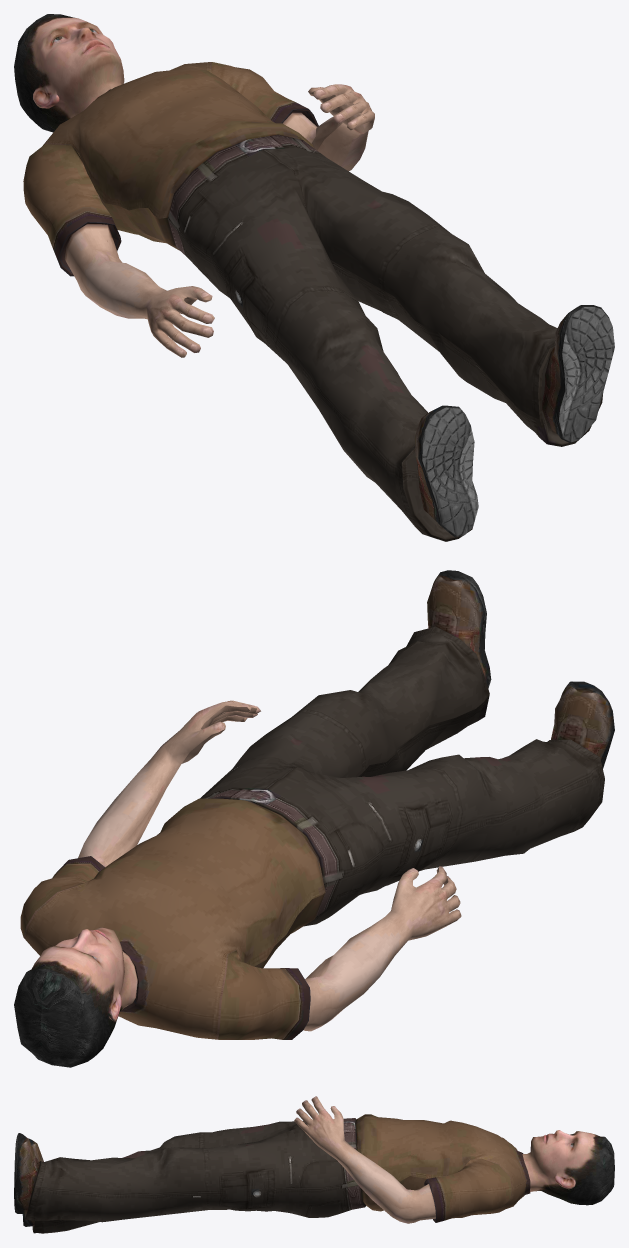
File: Man1.obj
3 renders of one model, top to bottom at view 1: azimuth 30°, elevation 25°; view 2: azimuth 150°, elevation 25°; view 3: azimuth 270°, elevation 25°, orthographic. The views are drawn at different scales.
Visible parts, largest first — view 1: Mesh1 G_3DGeom_1 Model; view 2: Mesh1 G_3DGeom_1 Model; view 3: Mesh1 G_3DGeom_1 Model.
Part boxes in pixels (box(x1,y1,x2,y2)): Mesh1 G_3DGeom_1 Model: box(14, 14, 614, 541); Mesh1 G_3DGeom_1 Model: box(14, 570, 614, 1067); Mesh1 G_3DGeom_1 Model: box(14, 1096, 614, 1233).
Bounding box in the file's own units: 0.6213 × 0.5504 × 1.84.
1 material, 1 textured.
